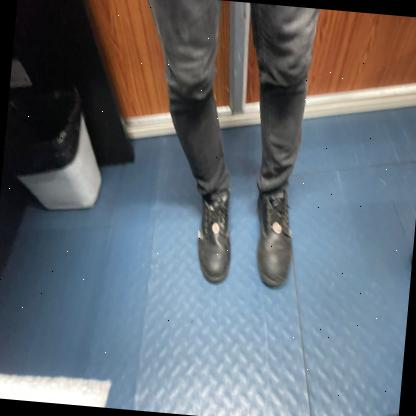bota: (249, 188, 298, 292), (193, 185, 238, 288)
